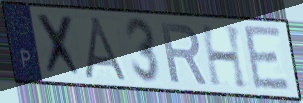3: (124, 14, 162, 89)
A: (82, 15, 132, 83)
E: (241, 23, 293, 93)
H: (198, 23, 251, 91)
R: (158, 20, 210, 87)
X: (34, 11, 86, 81)
